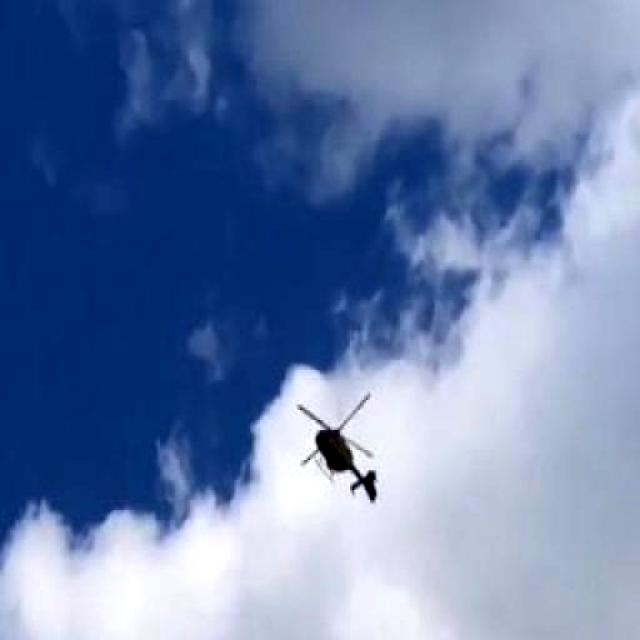drone: (259, 361, 409, 539)
